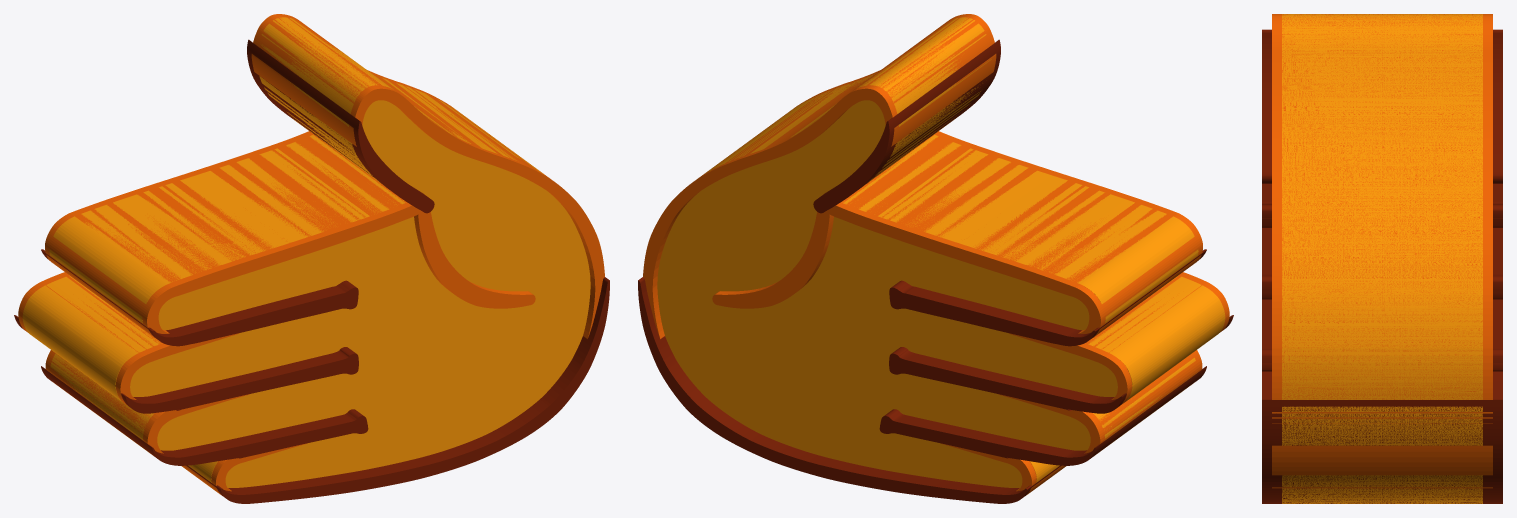
File: U+1FAF2.obj
3 renders of one model, left to right at view 1: azimuth 30°, elevation 25°; view 2: azimuth 150°, elevation 25°; view 3: azimuth 270°, elevation 25°, orthographic. The views are drawn at different scales.
Visible parts, largest first — view 1: U+1FAF2_layer00_obj00, U+1FAF2_layer01_obj02, U+1FAF2_layer01_obj00, U+1FAF2_layer02_obj04, U+1FAF2_layer02_obj01, U+1FAF2_layer02_obj00, U+1FAF2_layer02_obj03, U+1FAF2_layer02_obj02, U+1FAF2_layer01_obj01, U+1FAF2_layer01_obj04, U+1FAF2_layer01_obj03; view 2: U+1FAF2_layer00_obj00, U+1FAF2_layer01_obj02, U+1FAF2_layer01_obj00, U+1FAF2_layer02_obj04, U+1FAF2_layer02_obj01, U+1FAF2_layer02_obj00, U+1FAF2_layer02_obj02, U+1FAF2_layer02_obj03, U+1FAF2_layer01_obj04, U+1FAF2_layer01_obj01, U+1FAF2_layer01_obj03; view 3: U+1FAF2_layer00_obj00, U+1FAF2_layer01_obj00, U+1FAF2_layer02_obj04, U+1FAF2_layer02_obj02, U+1FAF2_layer02_obj01, U+1FAF2_layer02_obj00, U+1FAF2_layer02_obj03.
Boxes of the visible parts, x1=… form: U+1FAF2_layer00_obj00: x1=22, y1=17, x2=590, y2=487; U+1FAF2_layer01_obj02: x1=45, y1=131, x2=535, y2=337; U+1FAF2_layer01_obj00: x1=251, y1=14, x2=604, y2=338; U+1FAF2_layer02_obj04: x1=186, y1=277, x2=609, y2=503; U+1FAF2_layer02_obj01: x1=41, y1=366, x2=368, y2=465; U+1FAF2_layer02_obj00: x1=14, y1=315, x2=358, y2=413; U+1FAF2_layer02_obj03: x1=41, y1=249, x2=358, y2=346; U+1FAF2_layer02_obj02: x1=247, y1=39, x2=434, y2=213; U+1FAF2_layer01_obj01: x1=18, y1=272, x2=238, y2=405; U+1FAF2_layer01_obj04: x1=45, y1=350, x2=249, y2=455; U+1FAF2_layer01_obj03: x1=182, y1=443, x2=306, y2=495; U+1FAF2_layer00_obj00: x1=657, y1=17, x2=1225, y2=487; U+1FAF2_layer01_obj02: x1=712, y1=131, x2=1202, y2=337; U+1FAF2_layer01_obj00: x1=643, y1=14, x2=996, y2=338; U+1FAF2_layer02_obj04: x1=638, y1=277, x2=1061, y2=503; U+1FAF2_layer02_obj01: x1=879, y1=366, x2=1206, y2=465; U+1FAF2_layer02_obj00: x1=889, y1=315, x2=1233, y2=413; U+1FAF2_layer02_obj02: x1=813, y1=39, x2=1000, y2=213; U+1FAF2_layer02_obj03: x1=889, y1=249, x2=1206, y2=346; U+1FAF2_layer01_obj04: x1=998, y1=350, x2=1202, y2=455; U+1FAF2_layer01_obj01: x1=1009, y1=272, x2=1229, y2=405; U+1FAF2_layer01_obj03: x1=941, y1=443, x2=1065, y2=495; U+1FAF2_layer00_obj00: x1=1282, y1=14, x2=1482, y2=503; U+1FAF2_layer01_obj00: x1=1272, y1=14, x2=1492, y2=488; U+1FAF2_layer02_obj04: x1=1262, y1=371, x2=1502, y2=503; U+1FAF2_layer02_obj02: x1=1262, y1=29, x2=1502, y2=183; U+1FAF2_layer02_obj01: x1=1262, y1=299, x2=1502, y2=371; U+1FAF2_layer02_obj00: x1=1262, y1=228, x2=1502, y2=299; U+1FAF2_layer02_obj03: x1=1262, y1=184, x2=1502, y2=227.
Size of the model in its own units: 0.3016 by 0.2351 by 0.12.
